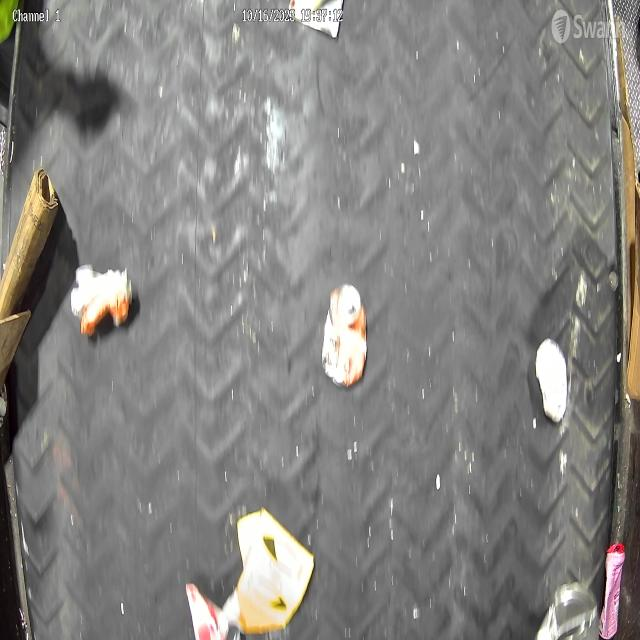can: (321, 281, 369, 389)
